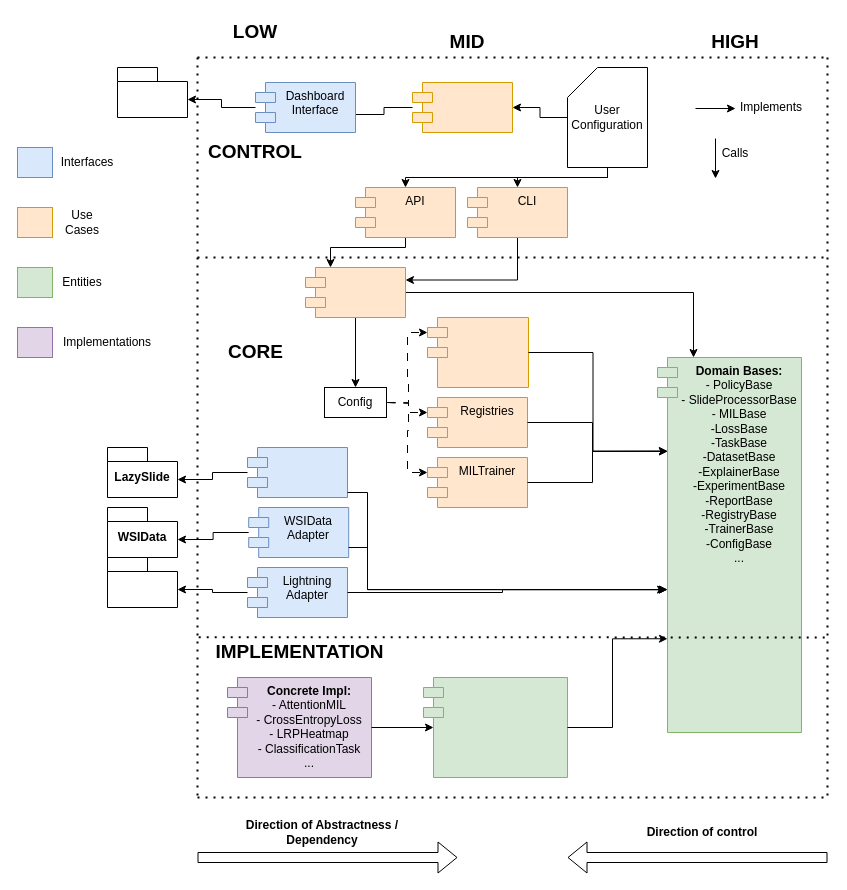
Some shapes in this 847 by 890 pixel diagram are drawn without their labels. The centre of each missing label's shape, as x and y in pixels:
ConfigBuilder: (355,292)
Dash: (152,92)
LazySlide Processor: (297,472)
Pytorch Lightning: (142,582)
Slide Processing Pipeline (e.g. Benchmark): (477,352)
Subtypes (Abstract) - SurvivalTask - RegressionLoss - GraphMIL - Heatmap ...: (495,727)
Vis. Dashboard: (462,107)
